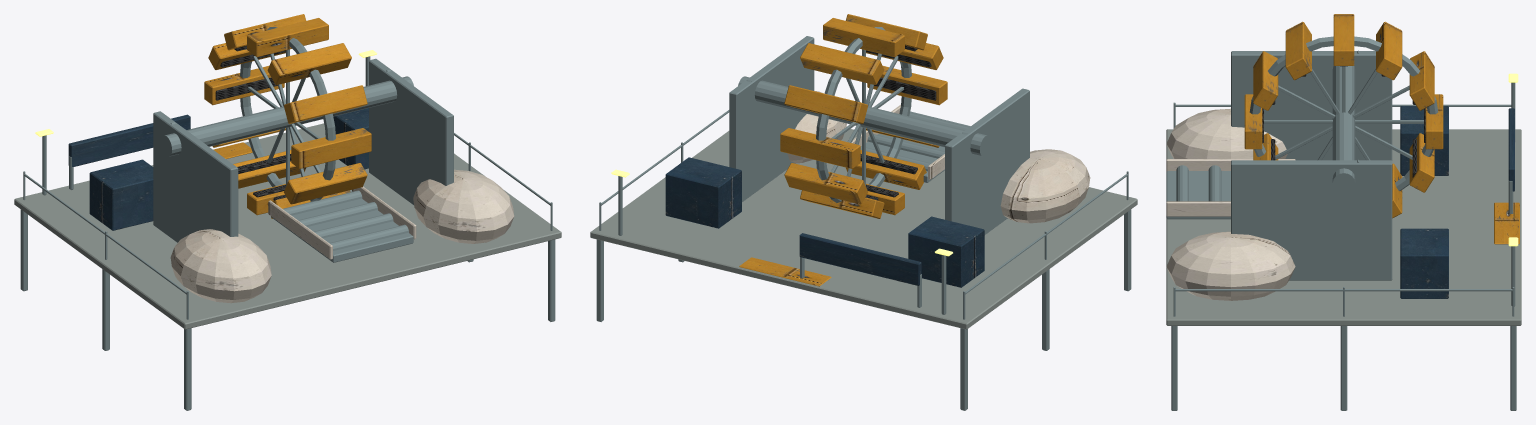
Rendered from bitterpan.glb.
3 renders of one model, left to right at view 1: azimuth 30°, elevation 25°; view 2: azimuth 150°, elevation 25°; view 3: azimuth 270°, elevation 25°, orthographic. The views are drawn at different scales.
Visible parts, largest first — view 1: static_signature_steel, static_signature_deck, static_signature_paint, bucket_wheel_signature_paint, bucket_wheel_signature_steel, conveyor_rollers_signature_steel; view 2: static_signature_deck, static_signature_steel, static_signature_paint, bucket_wheel_signature_paint, bucket_wheel_signature_steel, conveyor_rollers_signature_steel; view 3: static_signature_steel, static_signature_deck, static_signature_paint, bucket_wheel_signature_paint, bucket_wheel_signature_steel, conveyor_rollers_signature_steel.
Boxes of the visible parts, x1,y1,x2,y2 form: static_signature_steel: (20,56,555,410); static_signature_deck: (14,123,561,329); static_signature_paint: (68,108,514,303); bucket_wheel_signature_paint: (204,14,371,218); bucket_wheel_signature_steel: (240,27,335,201); conveyor_rollers_signature_steel: (283,190,408,250); static_signature_deck: (590,129,1137,329); static_signature_steel: (596,36,1131,410); static_signature_paint: (665,91,1090,287); bucket_wheel_signature_paint: (780,14,947,218); bucket_wheel_signature_steel: (816,27,911,202); conveyor_rollers_signature_steel: (860,112,969,171); static_signature_steel: (1166,50,1516,410); static_signature_deck: (1166,129,1521,325); static_signature_paint: (1166,106,1519,300); bucket_wheel_signature_paint: (1244,14,1443,218); bucket_wheel_signature_steel: (1249,36,1438,190); conveyor_rollers_signature_steel: (1176,165,1221,217).
Bounding box in the file's own units: 28 × 19.55 × 22.
4 materials, 1 textured.
